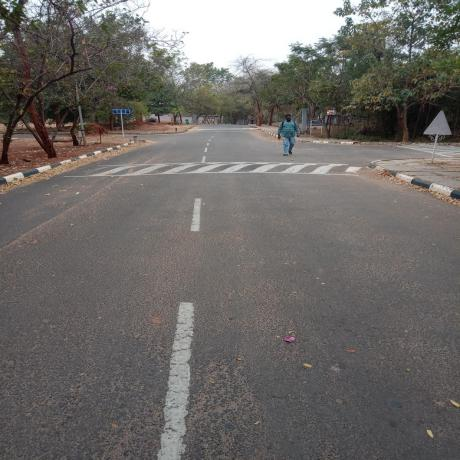Speed Bump: (72, 162, 374, 177)
